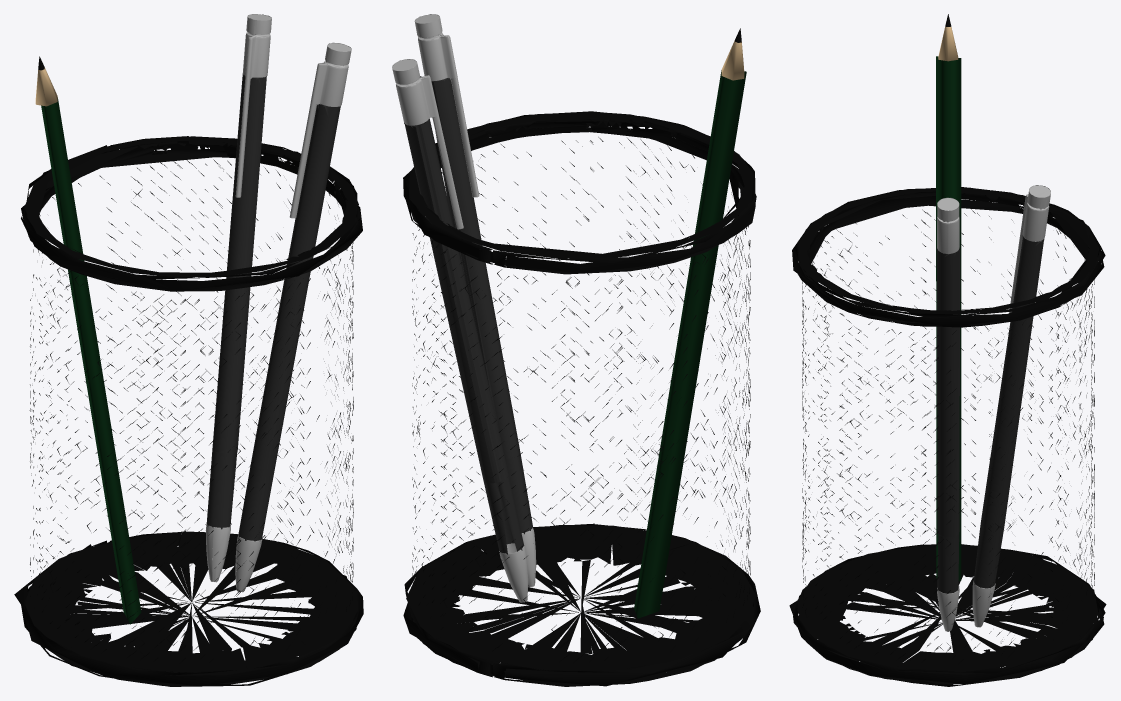
The model's file is pen_holder.glb.
3 views of the same model, side by side, from view 1: azimuth 30°, elevation 25°; view 2: azimuth 150°, elevation 25°; view 3: azimuth 270°, elevation 25° (orthographic). The views are drawn at different scales.
Visible parts, largest first — view 1: Cylinder.001_1, Cylinder.002_2, Cylinder.003_3, Cylinder.006_6, Cylinder.009_9, Cylinder_0, Cylinder.005_5, Cylinder.008_8, Cylinder.007_7, Cylinder.004_4, Cylinder.011_10; view 2: Cylinder.001_1, Cylinder.002_2, Cylinder.009_9, Cylinder.006_6, Cylinder.003_3, Cylinder_0, Cylinder.008_8, Cylinder.005_5, Cylinder.007_7, Cylinder.011_10, Cylinder.004_4; view 3: Cylinder.001_1, Cylinder.002_2, Cylinder.006_6, Cylinder.003_3, Cylinder_0, Cylinder.009_9, Cylinder.008_8, Cylinder.005_5, Cylinder.007_7, Cylinder.004_4, Cylinder.011_10.
Part boxes in pixels (x1,y1,x2,y2): Cylinder.001_1: (14,531,363,686); Cylinder.002_2: (21,136,362,291); Cylinder.003_3: (238,104,340,541); Cylinder.006_6: (206,74,266,529); Cylinder.009_9: (41,97,141,624); Cylinder_0: (29,151,353,672); Cylinder.005_5: (289,42,351,218); Cylinder.008_8: (235,14,271,197); Cylinder.007_7: (205,524,230,582); Cylinder.004_4: (235,534,262,592); Cylinder.011_10: (35,56,57,106); Cylinder.001_1: (403,524,760,686); Cylinder.002_2: (403,111,756,274); Cylinder.009_9: (634,70,746,618); Cylinder.006_6: (404,118,524,554); Cylinder.003_3: (431,78,533,534); Cylinder_0: (412,126,750,671); Cylinder.008_8: (392,59,463,229); Cylinder.005_5: (414,14,479,197); Cylinder.007_7: (499,542,528,602); Cylinder.011_10: (721,28,744,80); Cylinder.004_4: (521,527,536,587); Cylinder.001_1: (789,544,1106,686); Cylinder.002_2: (792,187,1105,327); Cylinder.006_6: (974,235,1044,588); Cylinder.003_3: (936,248,960,593); Cylinder_0: (802,199,1094,671); Cylinder.009_9: (936,56,961,581); Cylinder.008_8: (1009,185,1050,312); Cylinder.005_5: (937,197,959,254); Cylinder.007_7: (972,580,995,627); Cylinder.004_4: (937,585,959,631); Cylinder.011_10: (938,14,958,61).
Bounding box in the file's own units: 0.077 × 0.1399 × 0.0745.
